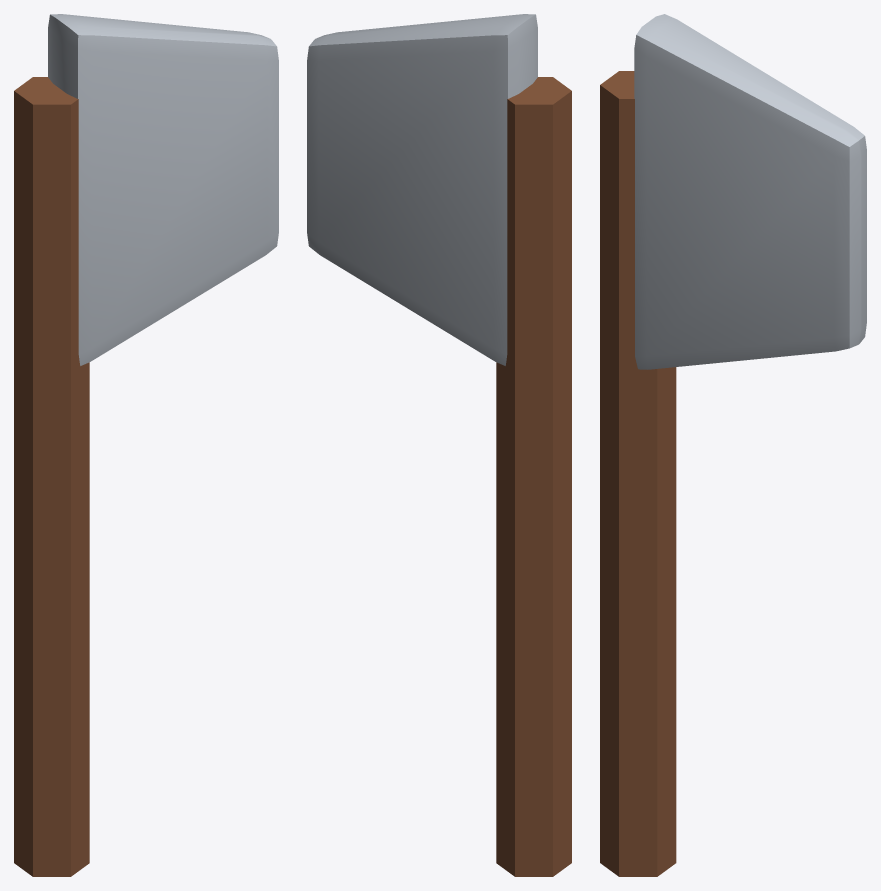
The model's file is axe.glb.
3 views of the same model, side by side, from view 1: azimuth 30°, elevation 25°; view 2: azimuth 150°, elevation 25°; view 3: azimuth 330°, elevation 25° (orthographic).
Visible parts, largest first — view 1: axe; view 2: axe; view 3: axe.
Boxes of the visible parts, bbox=[...] form: axe: bbox=[14, 14, 278, 876]; axe: bbox=[307, 14, 571, 876]; axe: bbox=[600, 14, 866, 876].
Size of the model in its own units: 0.3046 by 0.9762 by 0.08.
